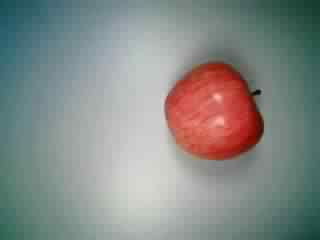apple: (163, 61, 268, 163)
